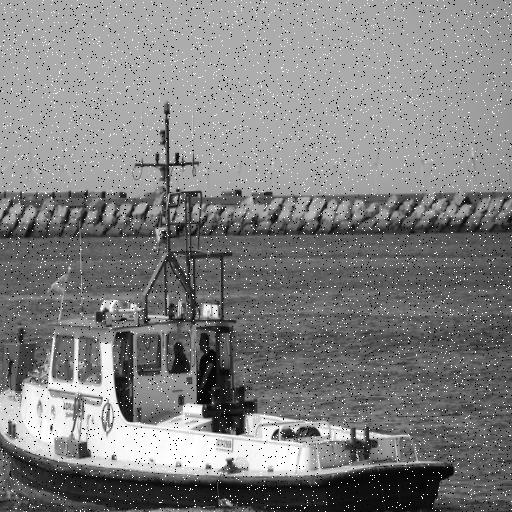tugboat: (1, 65, 460, 512)
